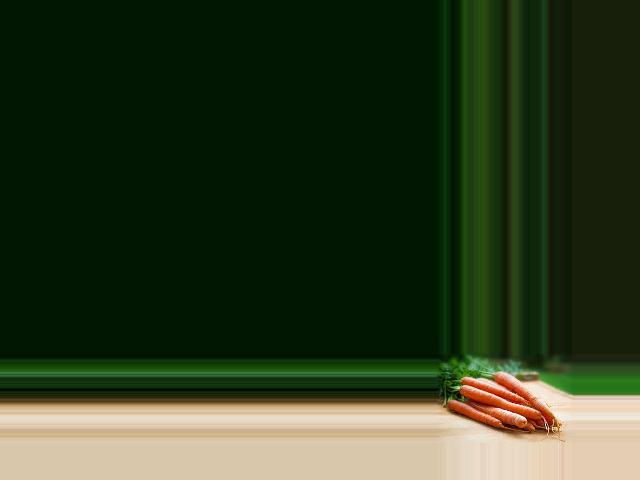carrot: (444, 401, 508, 438)
